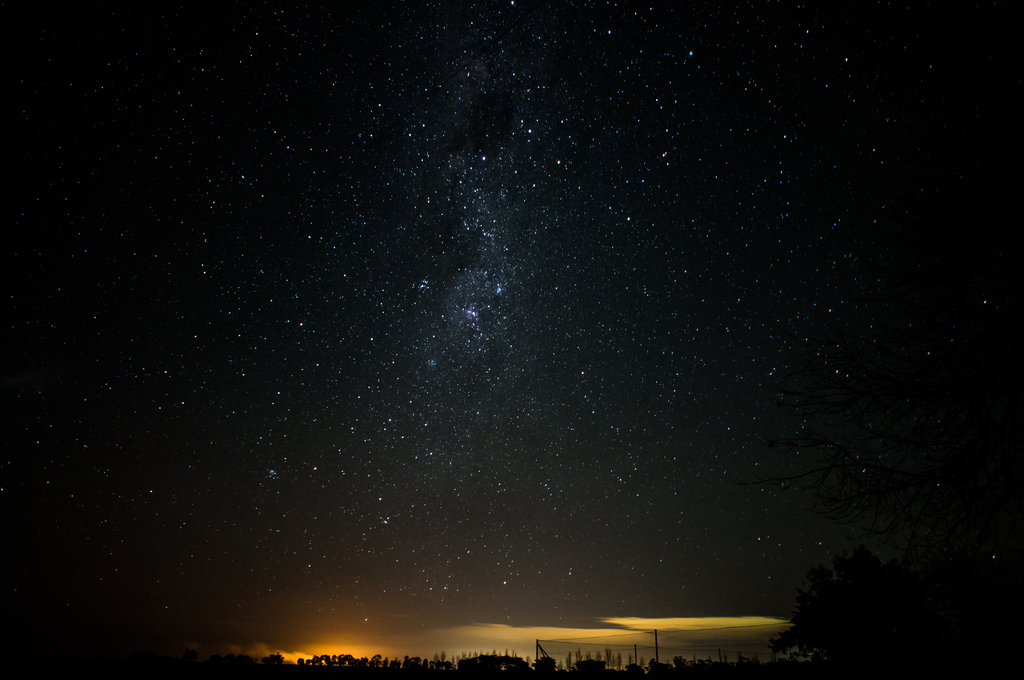Tree: (723, 309, 1023, 680)
